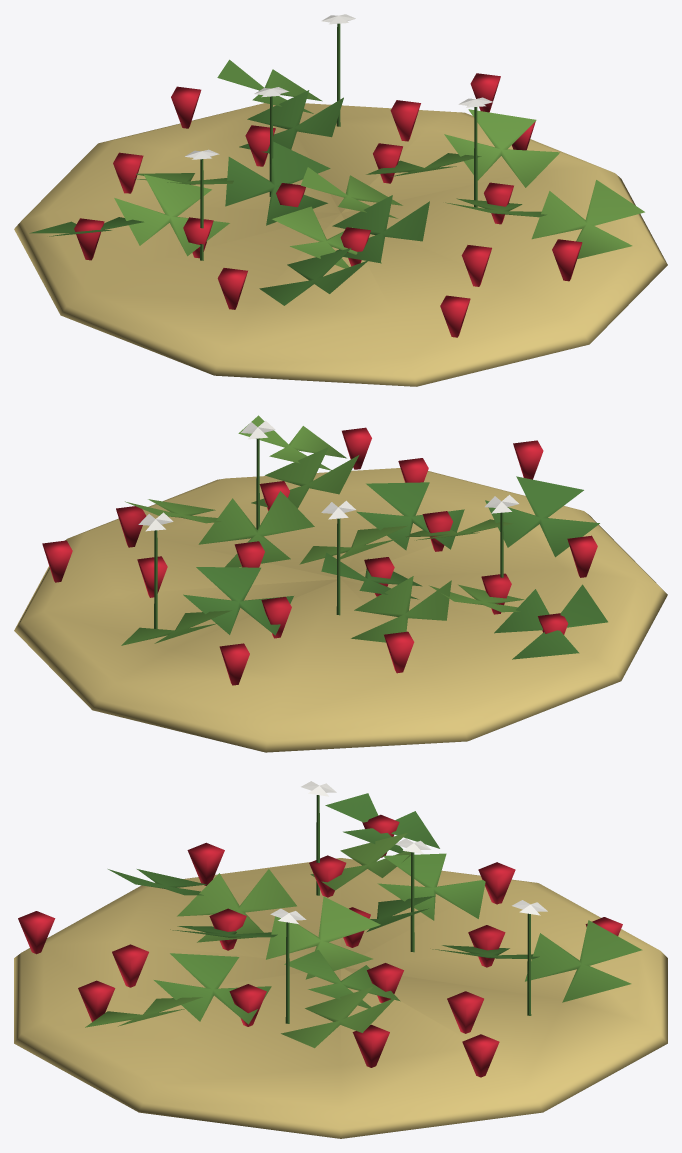
The model's file is strawberries.far.glb.
The picture shows the model from 3 angles, top to bottom: view 1: azimuth 30°, elevation 25°; view 2: azimuth 150°, elevation 25°; view 3: azimuth 270°, elevation 25°; orthographic projection.
Visible parts, largest first — view 1: strawberries; view 2: strawberries; view 3: strawberries.
Part boxes in pixels (<box>): strawberries: <box>14,14,667,386</box>; strawberries: <box>14,415,667,752</box>; strawberries: <box>14,781,667,1138</box>.
Size of the model in its own units: 0.88 by 0.21 by 0.88.
